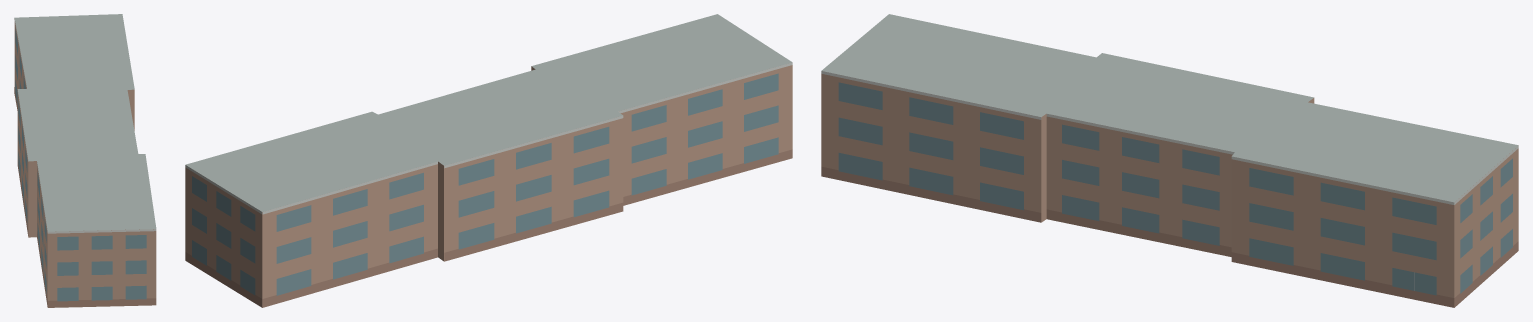
File: survey-upis-32887589.glb
3 views of the same model, side by side, from view 1: azimuth 30°, elevation 25°; view 2: azimuth 150°, elevation 25°; view 3: azimuth 270°, elevation 25° (orthographic). The views are drawn at different scales.
Parts seen in each view (by area): view 1: survey-upis-32887589.tmp; view 2: survey-upis-32887589.tmp; view 3: survey-upis-32887589.tmp.
Part boxes in pixels (bbox=[...]): survey-upis-32887589.tmp: bbox=[14, 14, 156, 307]; survey-upis-32887589.tmp: bbox=[185, 14, 792, 307]; survey-upis-32887589.tmp: bbox=[821, 14, 1518, 307].
Bounding box in the file's own units: 35.04 × 9.15 × 54.82.
